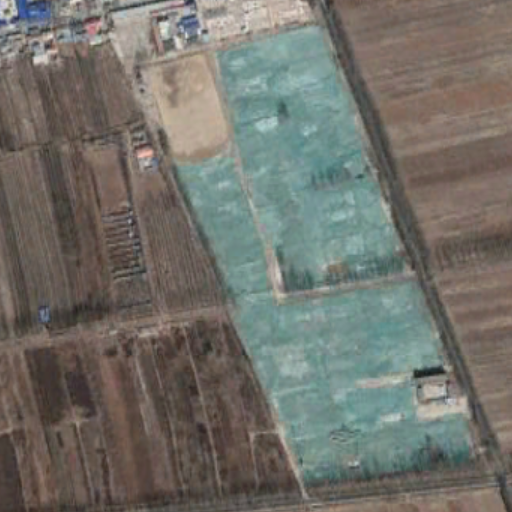cw: (165, 25, 473, 483)
